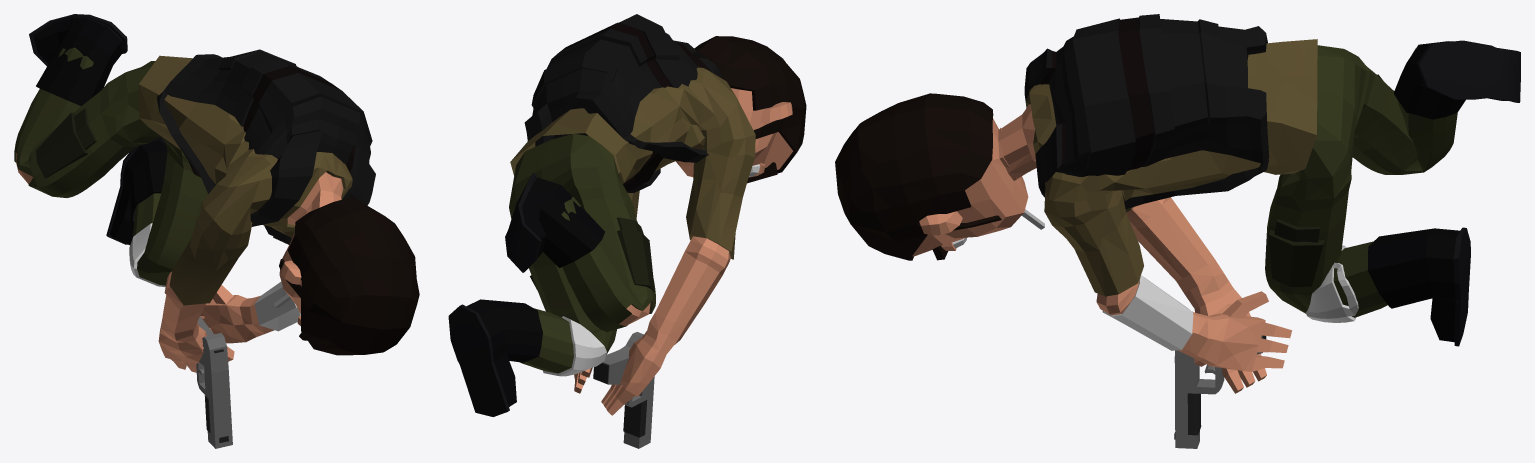
The model's file is frame_0086.obj.
3 renders of one model, left to right at view 1: azimuth 30°, elevation 25°; view 2: azimuth 150°, elevation 25°; view 3: azimuth 270°, elevation 25°, orthographic. The views are drawn at different scales.
Parts seen in each view (by area): view 1: Body, Gun; view 2: Body, Gun; view 3: Body, Gun.
Boxes of the visible parts, x1=… form: Body: x1=14, y1=14, x2=419, y2=372; Gun: x1=196, y1=316, x2=232, y2=448; Body: x1=448, y1=14, x2=806, y2=416; Gun: x1=593, y1=332, x2=654, y2=448; Body: x1=835, y1=14, x2=1520, y2=393; Gun: x1=1174, y1=335, x2=1266, y2=448.
Size of the model in its own units: 1.42 by 2.41 by 3.38.
